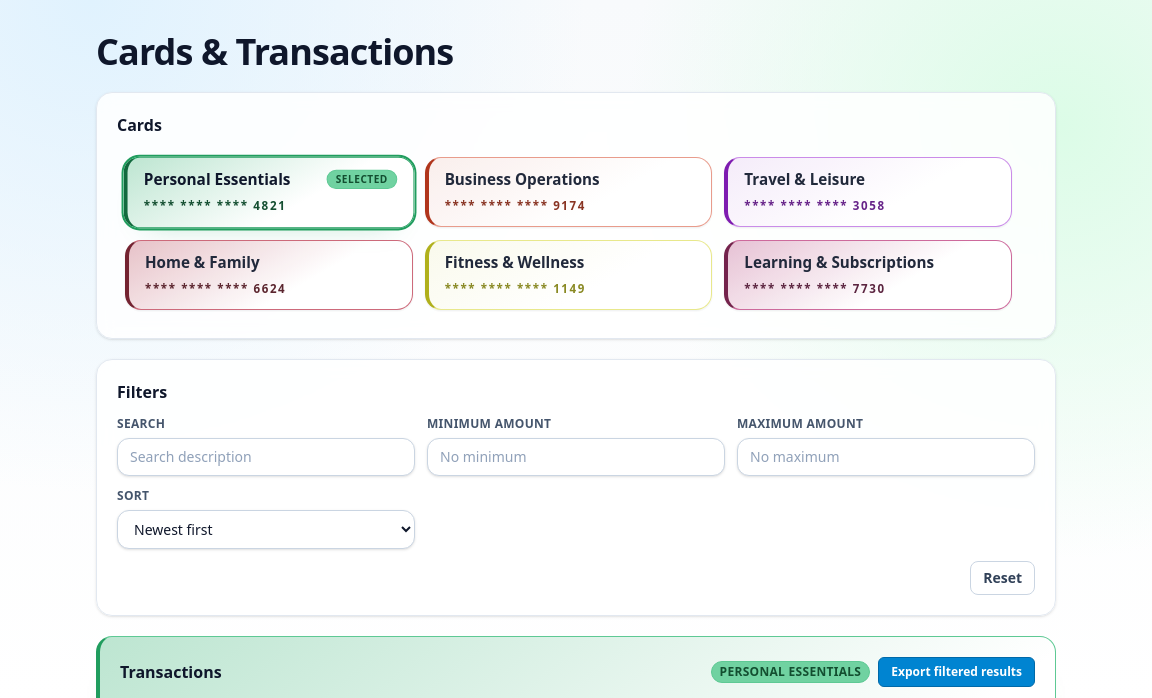
Scenario: CardsOverview integration › disables export when there are no filtered results
The width and height of the screenshot is (1152, 698).
Type "zzzz-no-match" into the field labelled "Search" at (266, 457), box [117,438,415,476]
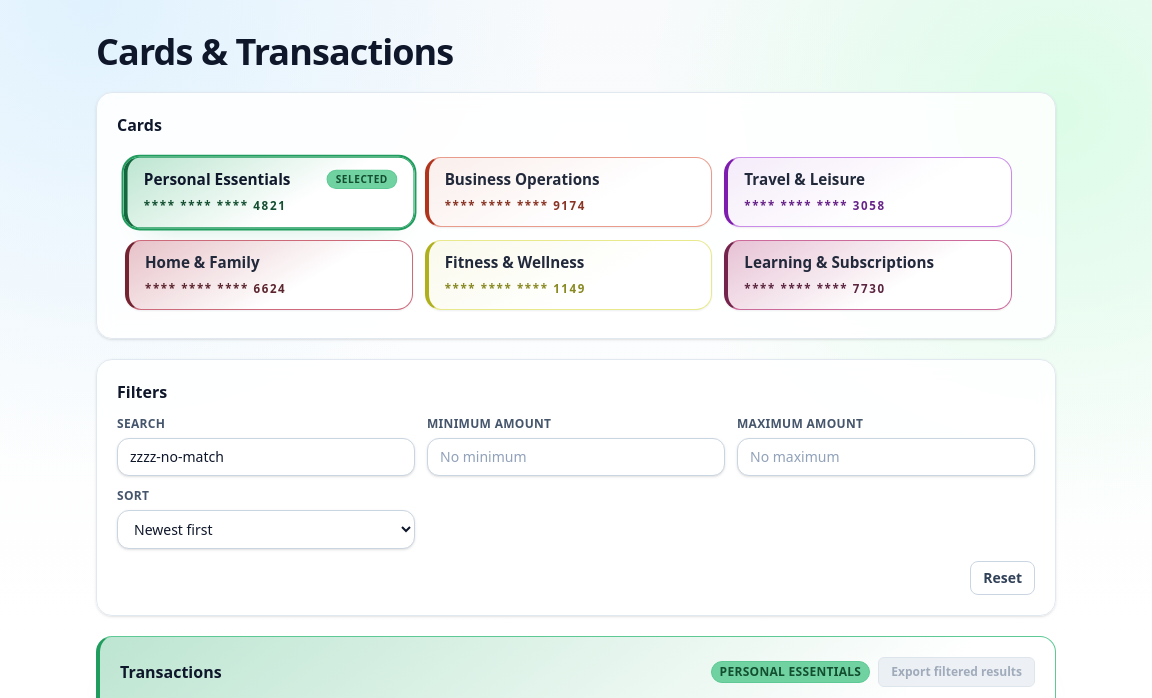
expect the button with aria-label "export filtered results for personal essentials" is disabled: met, box [878,657,1035,687]
